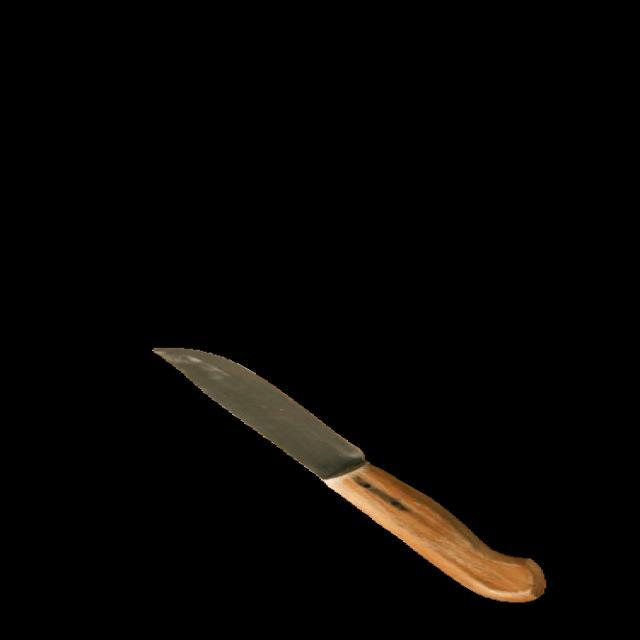knife: (122, 333, 558, 613)
